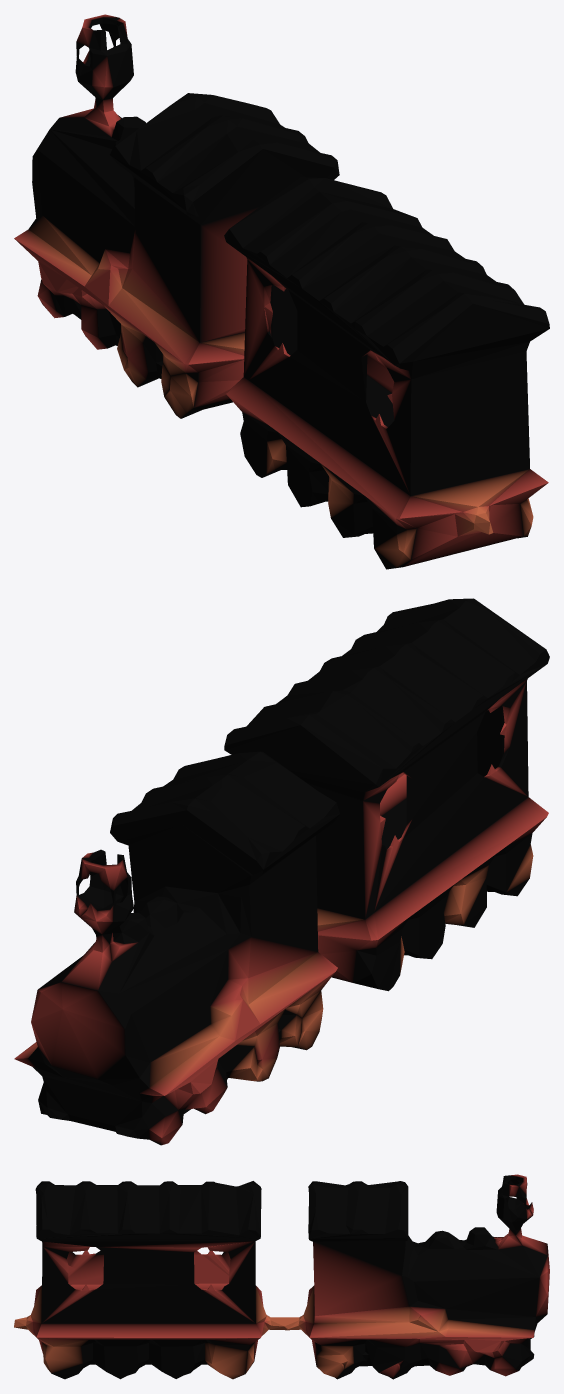
The model's file is Locomotive Trains.glb.
The picture shows the model from 3 angles, top to bottom: view 1: azimuth 30°, elevation 25°; view 2: azimuth 150°, elevation 25°; view 3: azimuth 270°, elevation 25°; orthographic projection. The views are drawn at different scales.
Visible parts, largest first — view 1: Root; view 2: Root; view 3: Root.
Boxes of the visible parts, box(x1,y1,x2,y2) form: Root: box(14, 14, 549, 569); Root: box(14, 598, 549, 1145); Root: box(14, 1174, 549, 1379).
Size of the model in its own units: 1.84 by 3.1 by 8.4.
